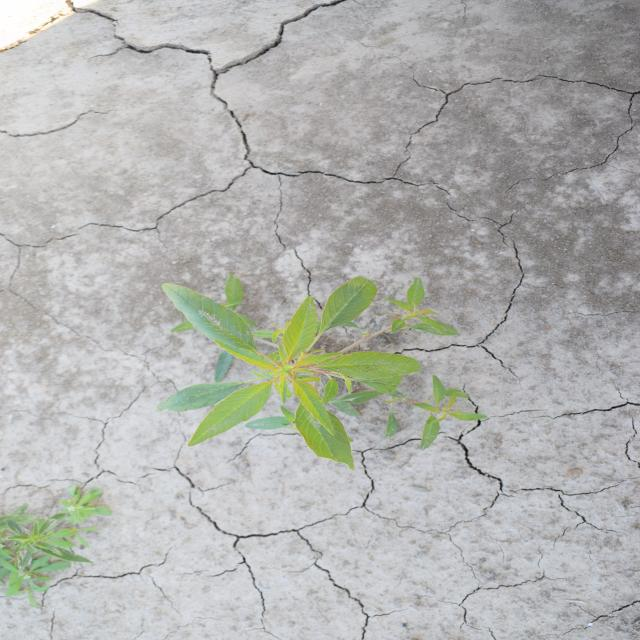Carpetweed: (2, 482, 115, 608)
Waterhemp: (158, 272, 490, 472)
